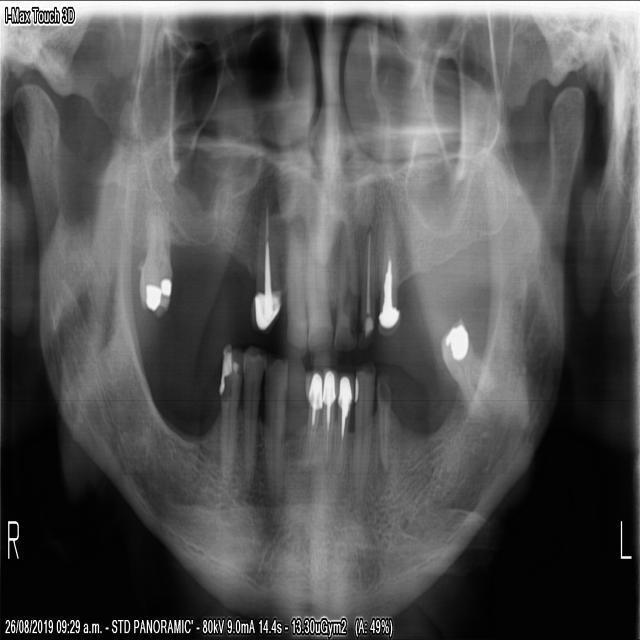LCD: (348, 350, 376, 515)
LCU: (373, 191, 404, 342)
LID: (332, 362, 356, 479), (316, 361, 339, 478)
LIU: (331, 209, 359, 358), (358, 216, 376, 342)
LMD: (435, 307, 497, 425)
RCD: (261, 348, 290, 513)
RCU: (244, 183, 285, 340)
RID: (299, 365, 325, 475)
RIU: (301, 200, 334, 359), (282, 199, 307, 357)
RMU: (134, 190, 175, 325)
RPMD: (213, 337, 246, 497), (237, 337, 268, 499)
